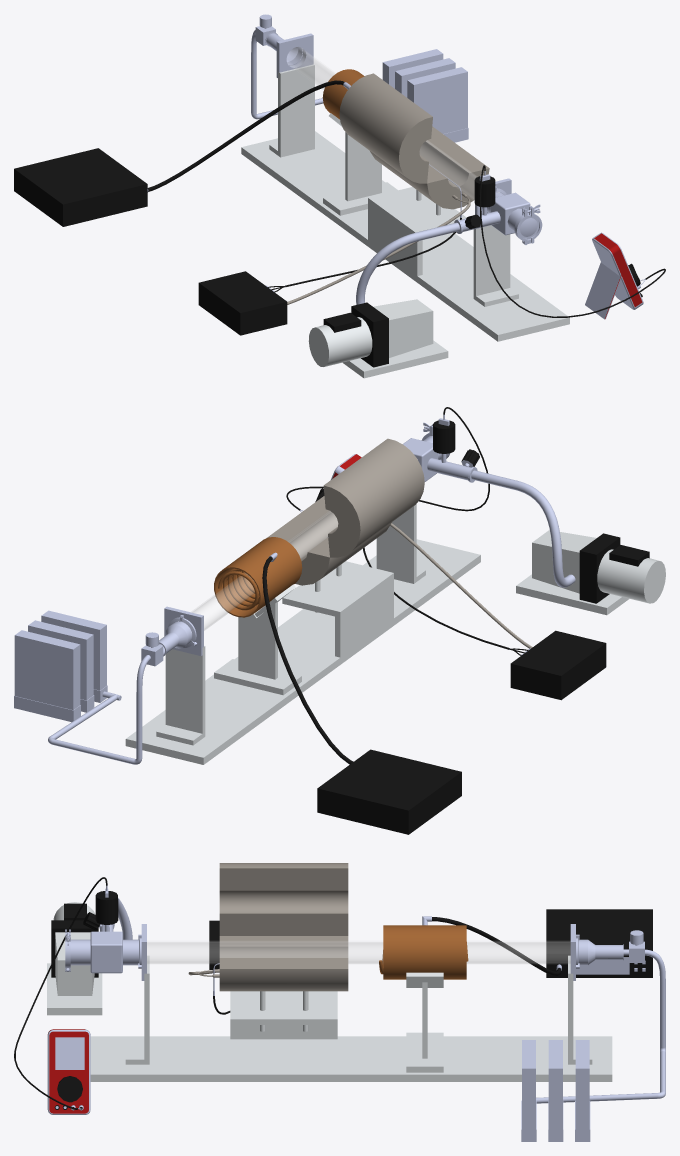
The model's file is reactor_ICPCVD.glb.
3 views of the same model, one above another, from view 1: azimuth 30°, elevation 25°; view 2: azimuth 150°, elevation 25°; view 3: azimuth 270°, elevation 25° (orthographic). The views are drawn at different scales.
Parts seen in each view (by area): view 1: reactor ICPCVD; view 2: reactor ICPCVD; view 3: reactor ICPCVD.
Part boxes in pixels (box(x1,y1,x2,y2)): reactor ICPCVD: box(14, 14, 665, 378); reactor ICPCVD: box(14, 407, 665, 834); reactor ICPCVD: box(14, 863, 665, 1141).
Bounding box in the file's own units: 0.9195 × 0.3723 × 1.22.
